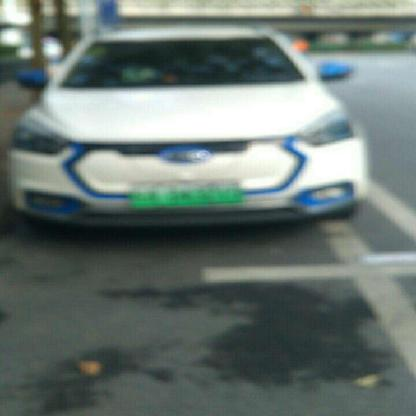lp: (130, 178, 244, 208)
